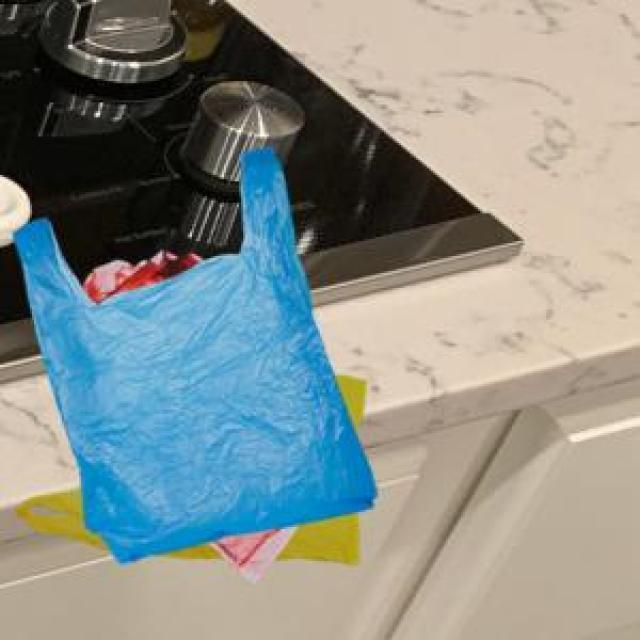waste: (15, 148, 376, 579)
